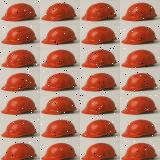Helmet: (121, 2, 158, 22), (41, 2, 77, 22), (1, 3, 38, 22), (81, 2, 118, 21), (121, 26, 158, 45), (41, 49, 78, 68), (41, 72, 78, 91), (81, 72, 118, 91), (121, 73, 158, 92), (121, 96, 158, 115), (121, 119, 158, 138), (41, 96, 78, 115), (1, 26, 37, 45), (41, 26, 77, 45), (1, 49, 37, 68), (121, 49, 157, 68), (1, 72, 37, 91), (81, 119, 117, 138), (81, 96, 117, 115), (1, 96, 37, 115), (81, 50, 118, 68), (40, 142, 77, 160), (80, 142, 117, 160), (120, 142, 157, 160), (81, 26, 117, 44), (1, 142, 37, 160), (41, 120, 77, 138), (1, 120, 37, 138)
